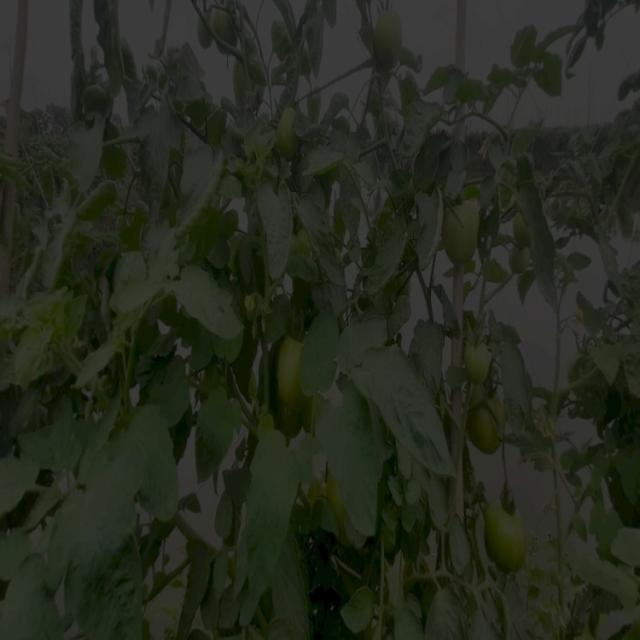tomato: (486, 499, 536, 571), (445, 203, 487, 269), (474, 404, 507, 456), (378, 7, 411, 55), (278, 338, 304, 398), (465, 338, 495, 376), (276, 102, 296, 151), (211, 5, 237, 34), (90, 78, 109, 101), (293, 225, 307, 256)
